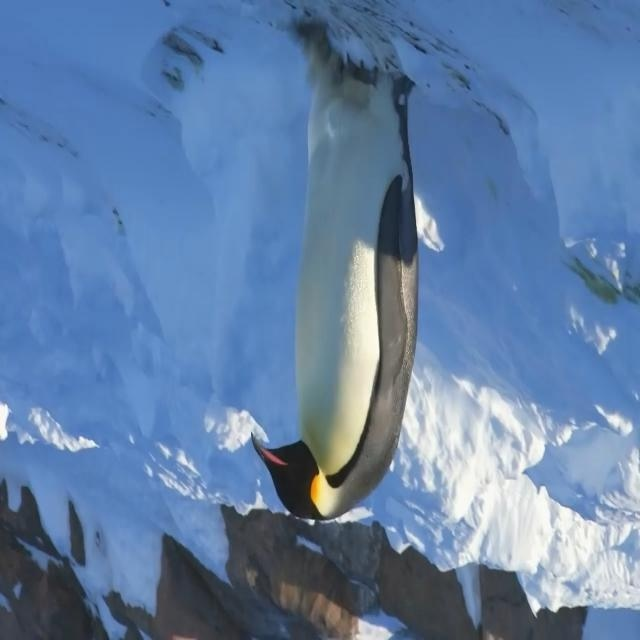penguin: (252, 20, 421, 521)
